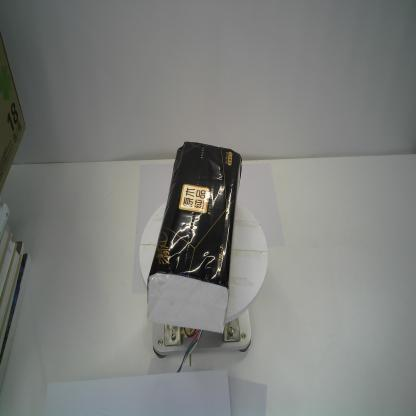Tissue: (144, 139, 244, 338)
